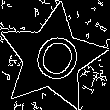O_SW: (21, 25, 83, 90)
